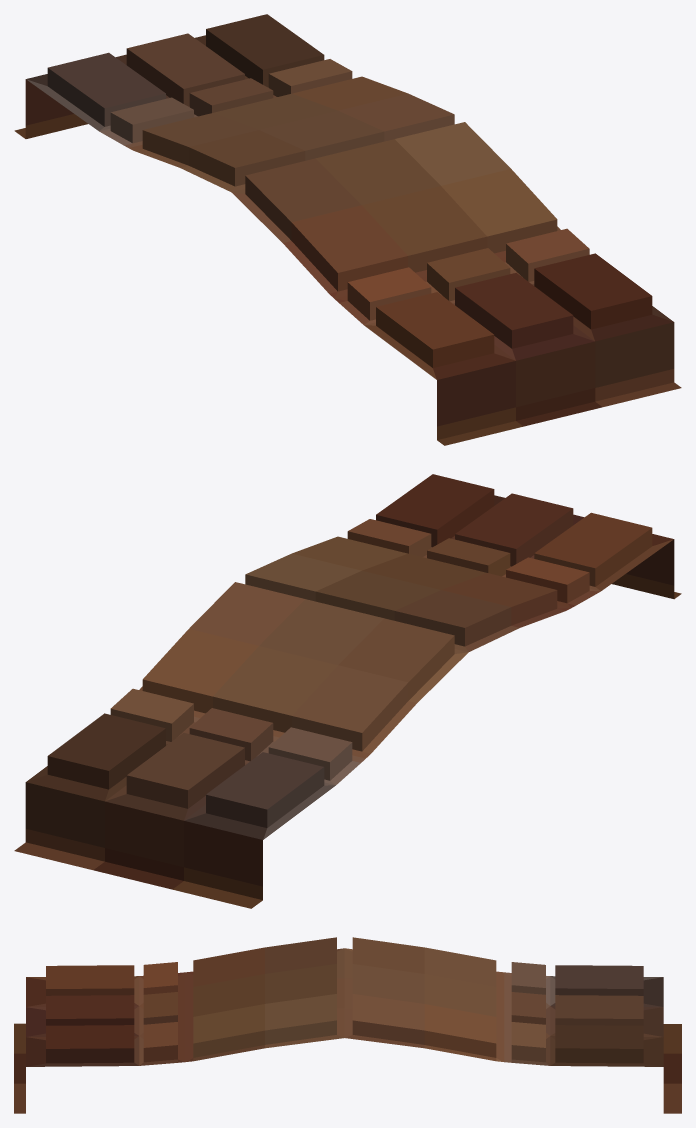
Rendered from Ceiling_HomeA-VaultedB.fbx.
3 views of the same model, one above another, from view 1: azimuth 30°, elevation 25°; view 2: azimuth 150°, elevation 25°; view 3: azimuth 270°, elevation 25° (orthographic). The views are drawn at different scales.
Visible parts, largest first — view 1: Ceiling_HomeA-VaultedB; view 2: Ceiling_HomeA-VaultedB; view 3: Ceiling_HomeA-VaultedB.
Part boxes in pixels (x1=…): Ceiling_HomeA-VaultedB: x1=14, y1=14, x2=681, y2=445; Ceiling_HomeA-VaultedB: x1=14, y1=474, x2=681, y2=908; Ceiling_HomeA-VaultedB: x1=14, y1=937, x2=681, y2=1113.
Bounding box in the file's own units: 200 × 93.31 × 628.
